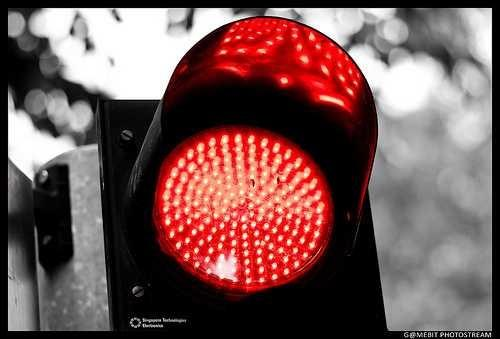red: (120, 12, 373, 324)
